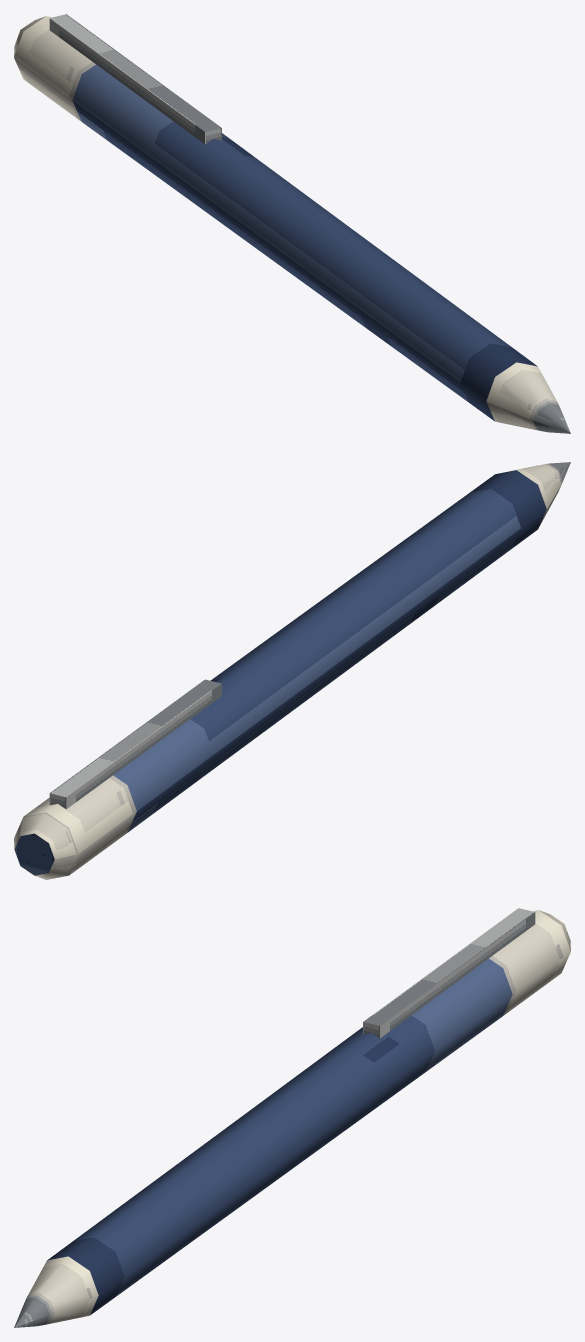
Rendered from INV_Pen.glb.
3 renders of one model, top to bottom at view 1: azimuth 30°, elevation 25°; view 2: azimuth 150°, elevation 25°; view 3: azimuth 330°, elevation 25°, orthographic.
Parts seen in each view (by area): view 1: INV_Pen_Mesh; view 2: INV_Pen_Mesh; view 3: INV_Pen_Mesh.
Boxes of the visible parts, x1,y1,x2,y2 form: INV_Pen_Mesh: [14, 14, 570, 433]; INV_Pen_Mesh: [14, 462, 570, 879]; INV_Pen_Mesh: [14, 908, 570, 1327].
Size of what is drawn, in the model's own units: 0.0096 by 0.0108 by 0.138.
Materials: 1 (1 with a texture image).
